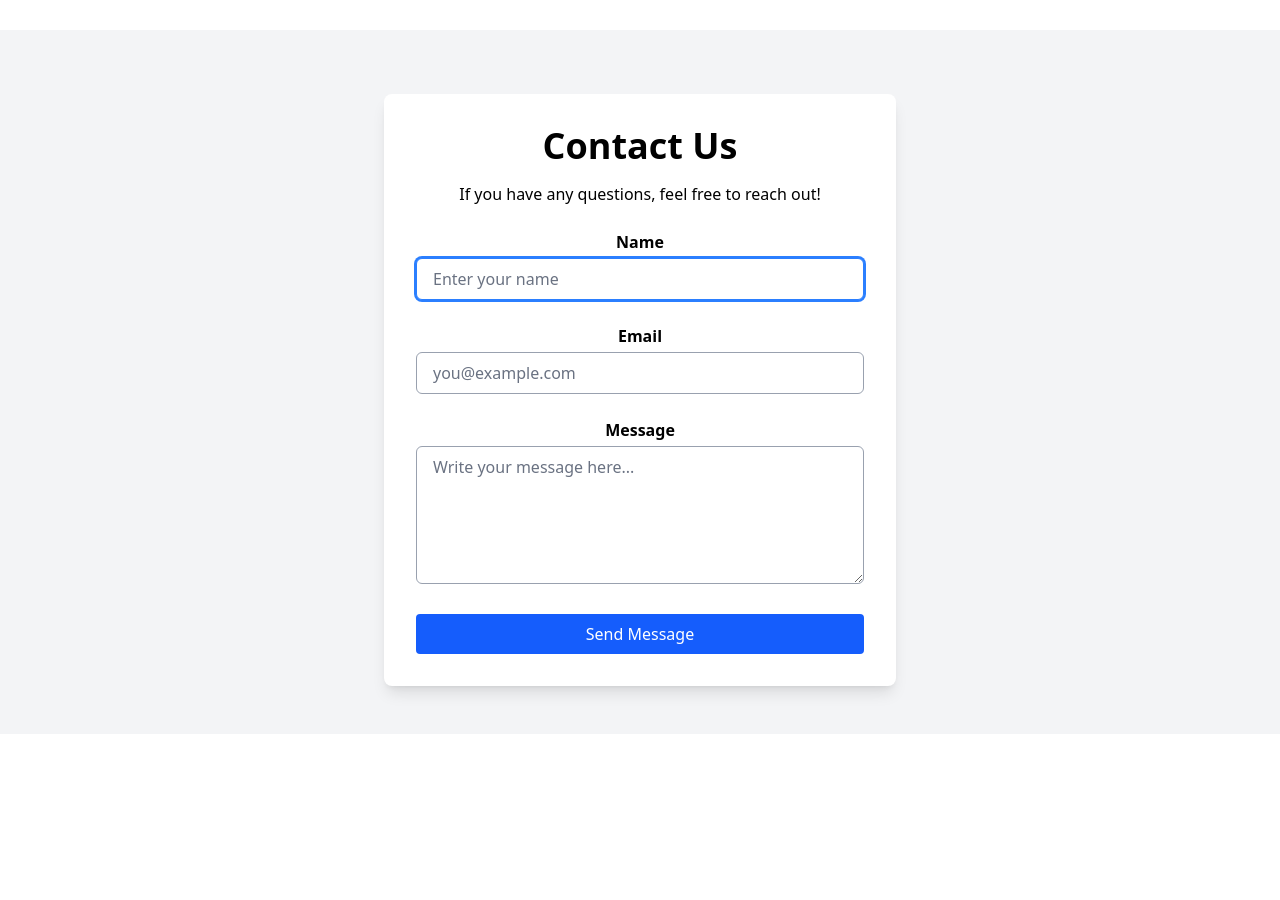
Test: ContactUs Component › shows validation errors when submitting empty form
Click the button "Send Message" at {"x": 640, "y": 634}, box [416, 614, 864, 654]
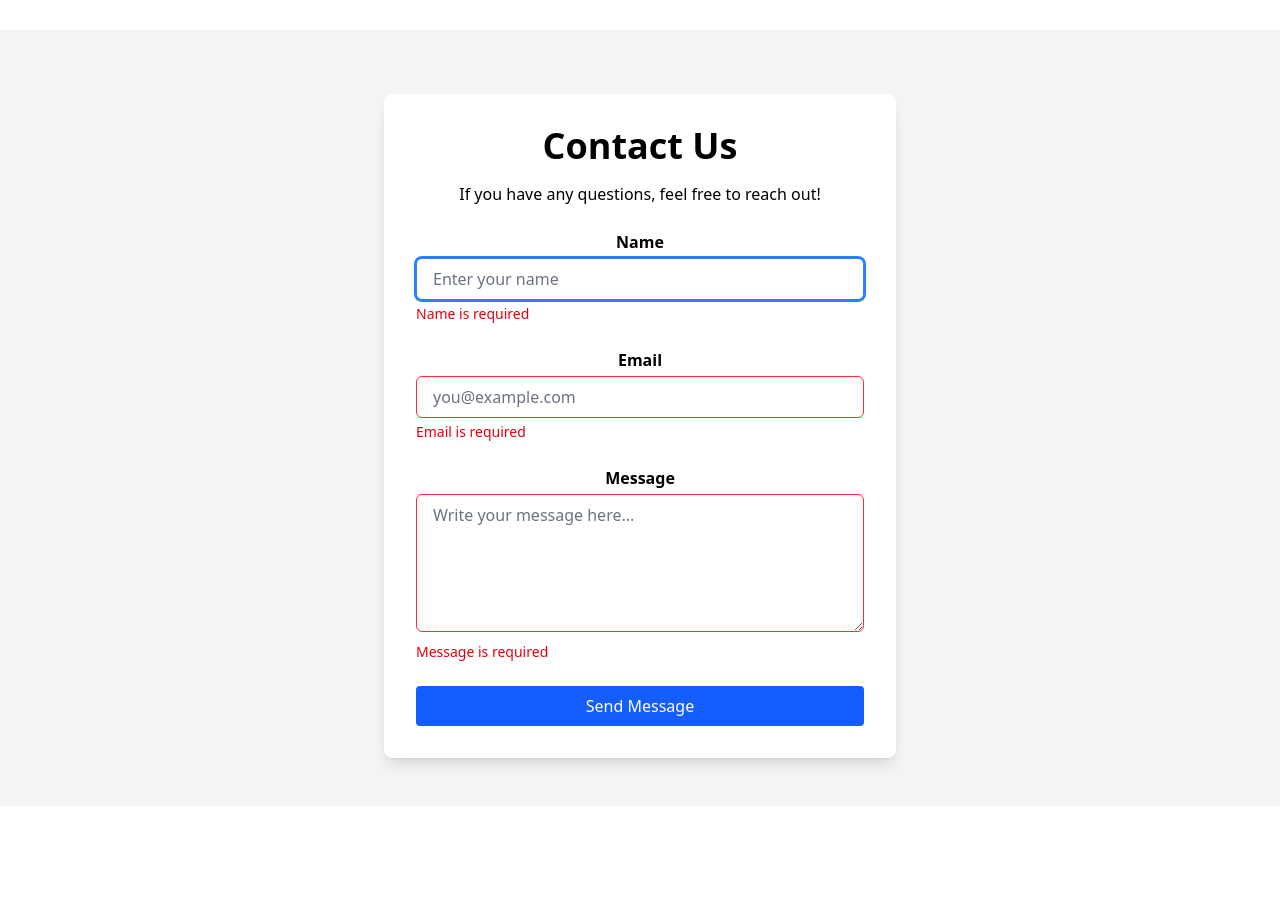
Now the text "Name is required" is shown, box [416, 304, 529, 323]
Now the text "Email is required" is shown, box [416, 422, 526, 441]
Now the text "Message is required" is shown, box [416, 642, 548, 661]
